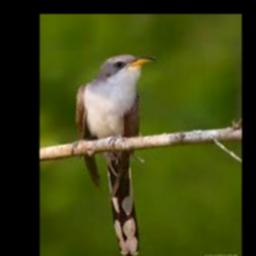Cuckoo: (75, 54, 157, 256)
